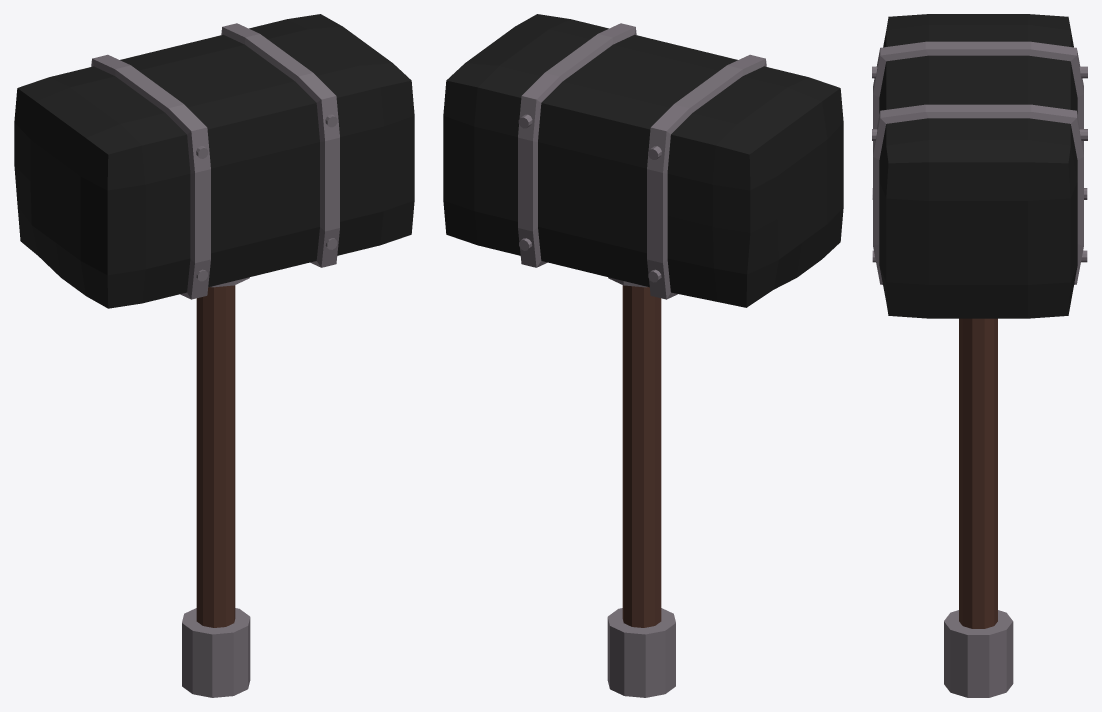
The model's file is MarteloDeGuerra.fbx.
The picture shows the model from 3 angles, left to right: view 1: azimuth 30°, elevation 25°; view 2: azimuth 150°, elevation 25°; view 3: azimuth 270°, elevation 25°; orthographic projection.
Visible parts, largest first — view 1: MarteloDeGuerra; view 2: MarteloDeGuerra; view 3: MarteloDeGuerra.
Part boxes in pixels (left/top/right/bottom): MarteloDeGuerra: left=14, top=14, right=414, bottom=697; MarteloDeGuerra: left=443, top=14, right=843, bottom=697; MarteloDeGuerra: left=872, top=14, right=1087, bottom=697.
Bounding box in the file's own units: 62.32 × 115 × 37.03.
